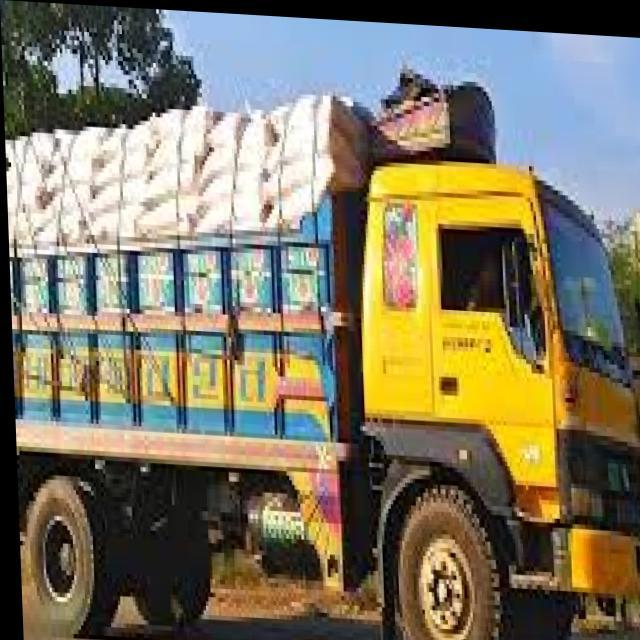uncovered: (2, 72, 640, 640)
